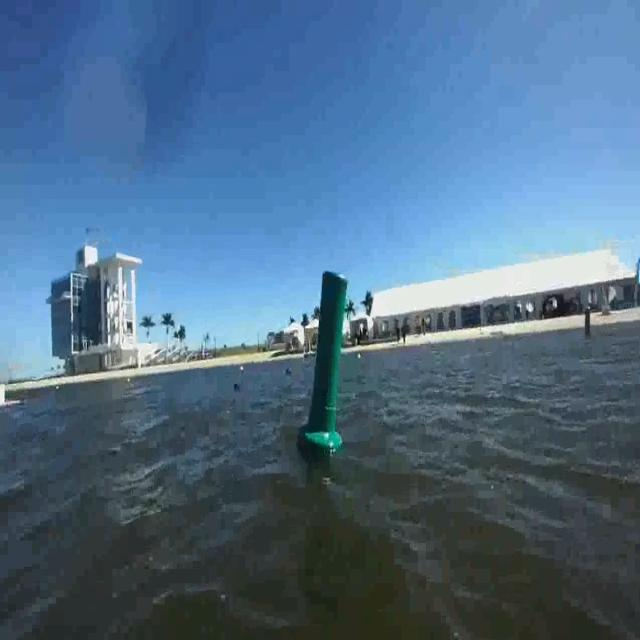green-column-buoy: (305, 268, 349, 452)
